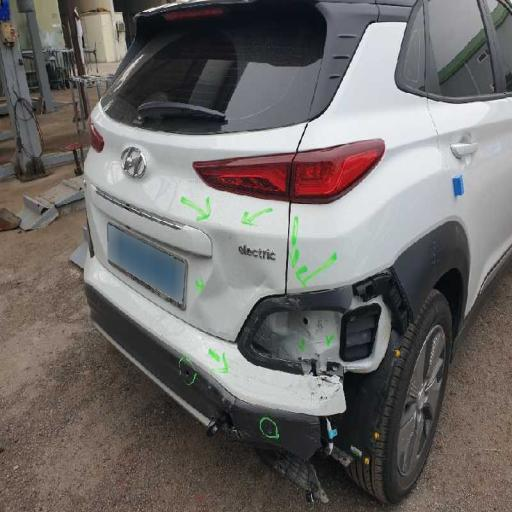broken: (228, 258, 412, 453)
scratch: (164, 162, 328, 316)
